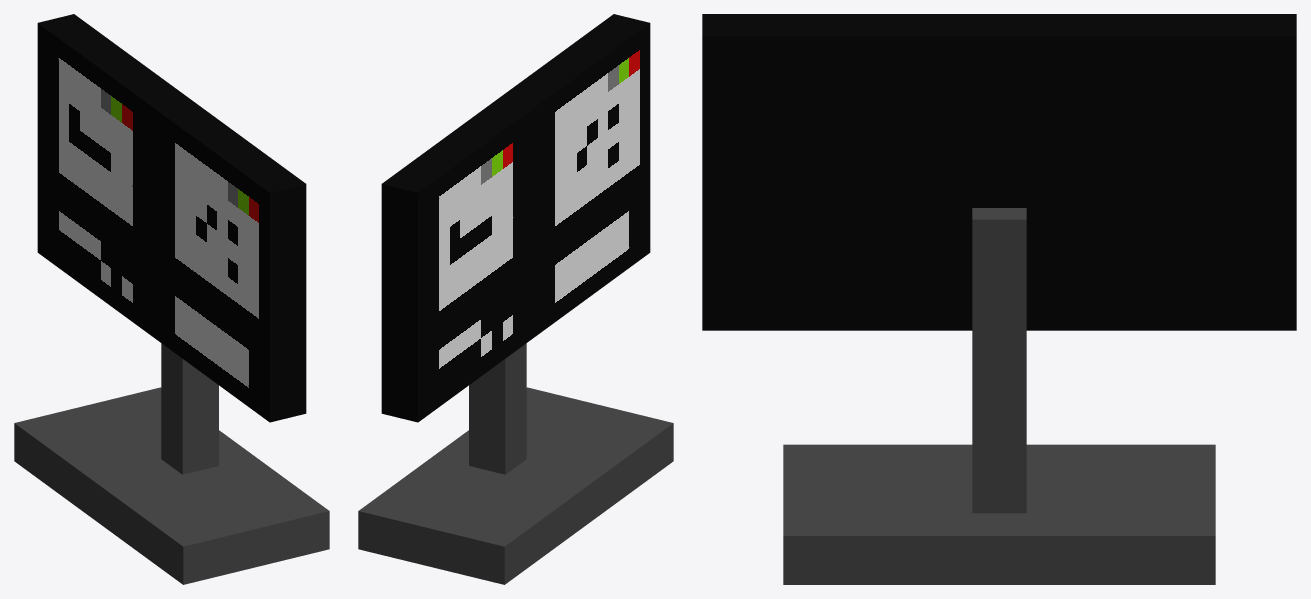
File: AhhImGonnaBreikMyMonitorrrrIswerrrr.gltf
3 renders of one model, left to right at view 1: azimuth 30°, elevation 25°; view 2: azimuth 150°, elevation 25°; view 3: azimuth 270°, elevation 25°, orthographic. The views are drawn at different scales.
Visible parts, largest first — view 1: mesh (×3); view 2: mesh (×3); view 3: mesh (×3).
Part boxes in pixels (x1=…): mesh (×3): x1=14, y1=14, x2=329, y2=584; mesh (×3): x1=358, y1=14, x2=673, y2=584; mesh (×3): x1=702, y1=14, x2=1296, y2=584.
Size of the model in its own units: 0.5 by 1.31 by 1.38.
Materials: 3 (3 with a texture image).
